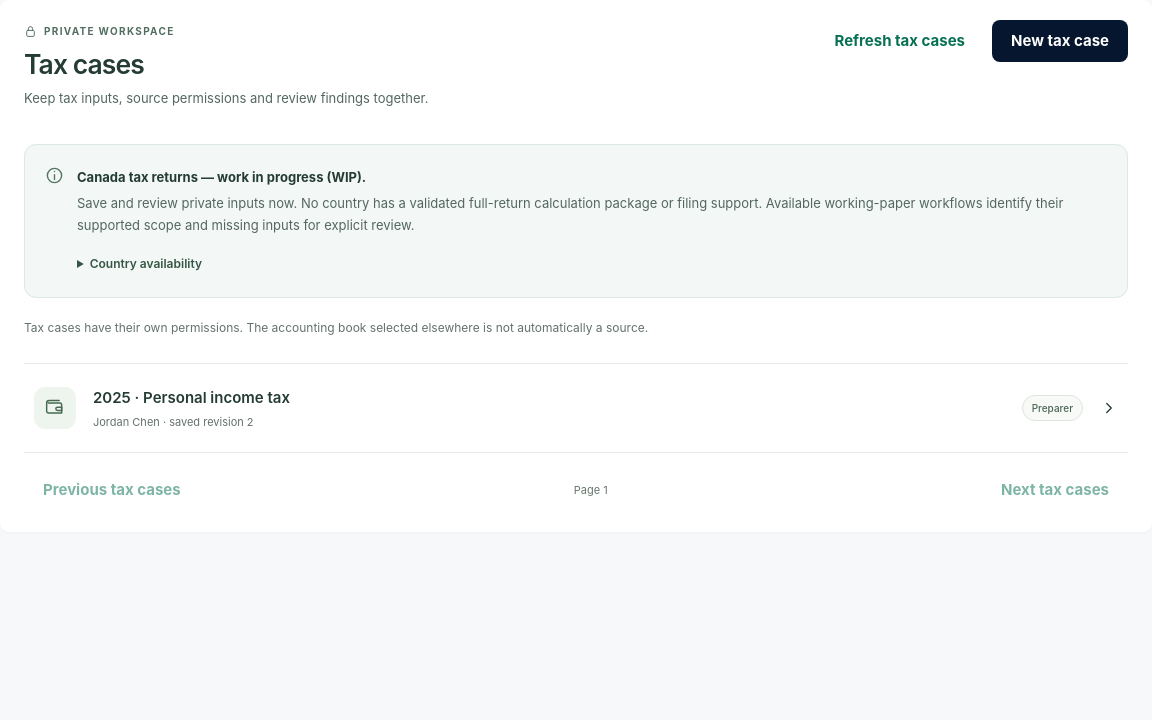
Test: existing corporate case entity attachment › offers no binding to preparer when bound=false
The width and height of the screenshot is (1152, 720).
Click the button with aria-label "Open tax case 2025 · Personal income tax". click: coordinates (55, 408)
box: left=24, top=364, right=1128, bottom=452
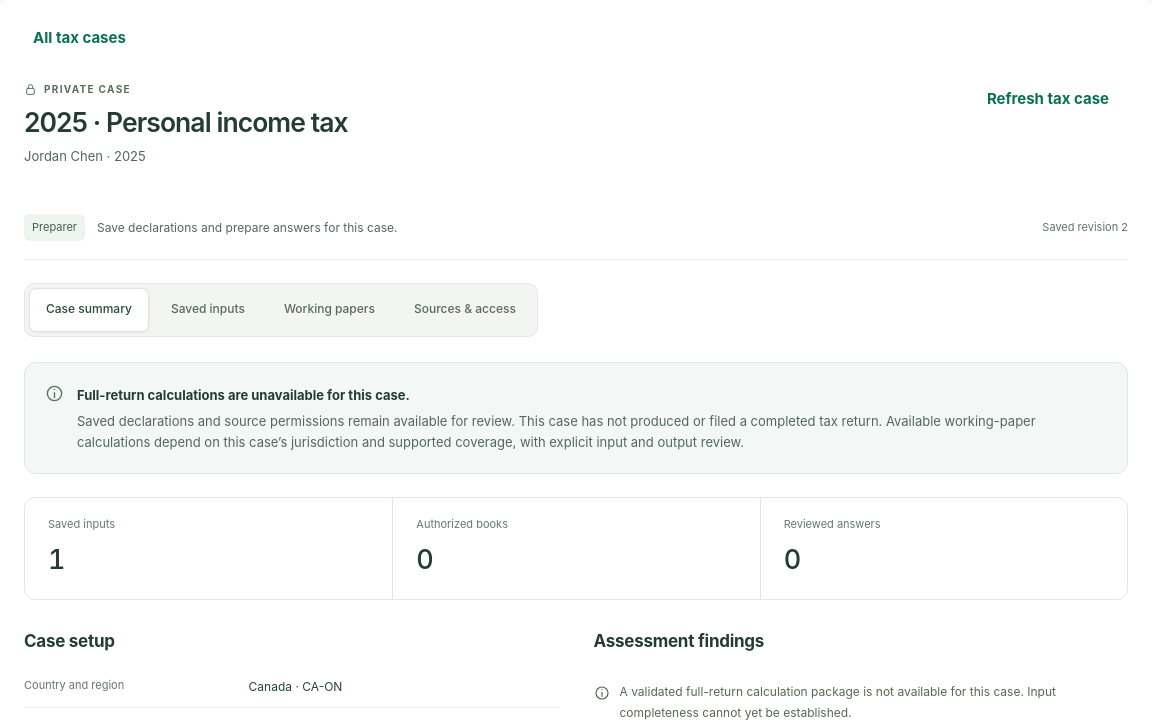
Check: the heading "Case setup" is shown, box left=24, top=631, right=115, bottom=651
